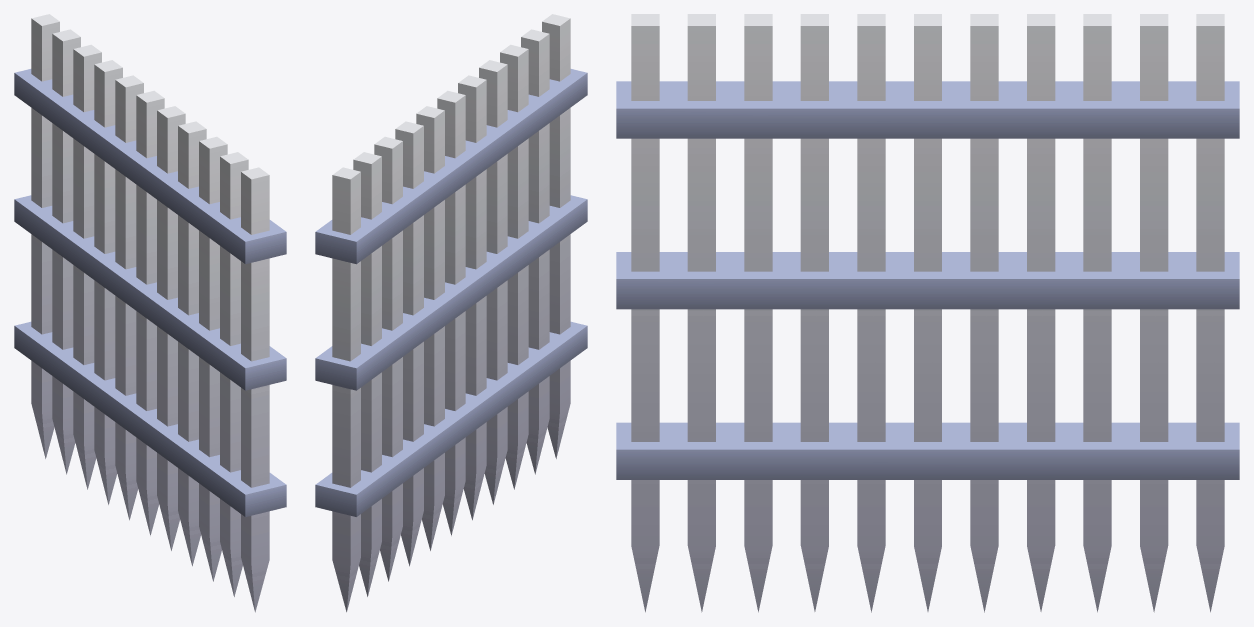
The model's file is metal-gate.glb.
3 renders of one model, left to right at view 1: azimuth 30°, elevation 25°; view 2: azimuth 150°, elevation 25°; view 3: azimuth 270°, elevation 25°, orthographic. The views are drawn at different scales.
Parts seen in each view (by area): view 1: metal-gate; view 2: metal-gate; view 3: metal-gate.
Part boxes in pixels (x1,y1,x2,y2): metal-gate: [14, 14, 286, 612]; metal-gate: [315, 14, 587, 612]; metal-gate: [616, 14, 1239, 612].
Size of the model in its own units: 0.0715 by 0.7301 by 0.6952.
1 material, 1 textured.
